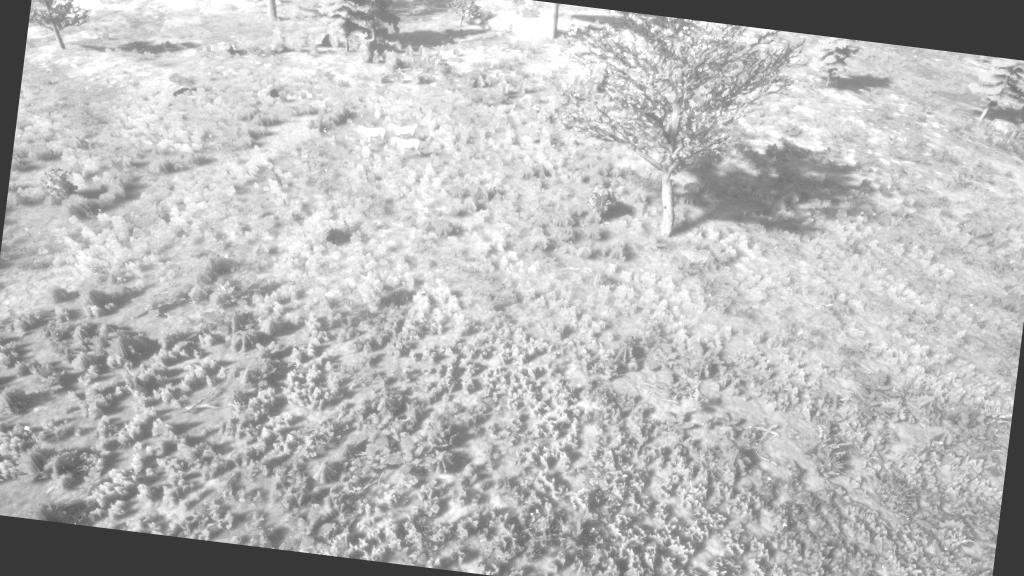zebra: (385, 132, 428, 163), (353, 120, 390, 150), (384, 119, 420, 145)
